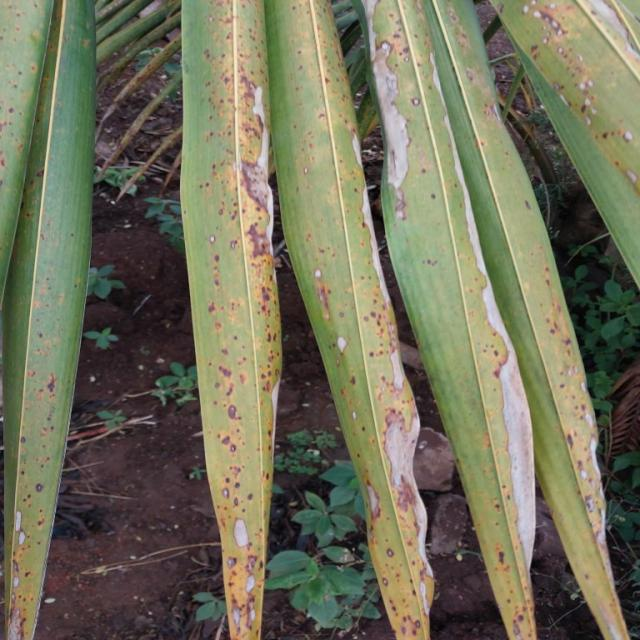gray leaf spot: (199, 56, 610, 624)
